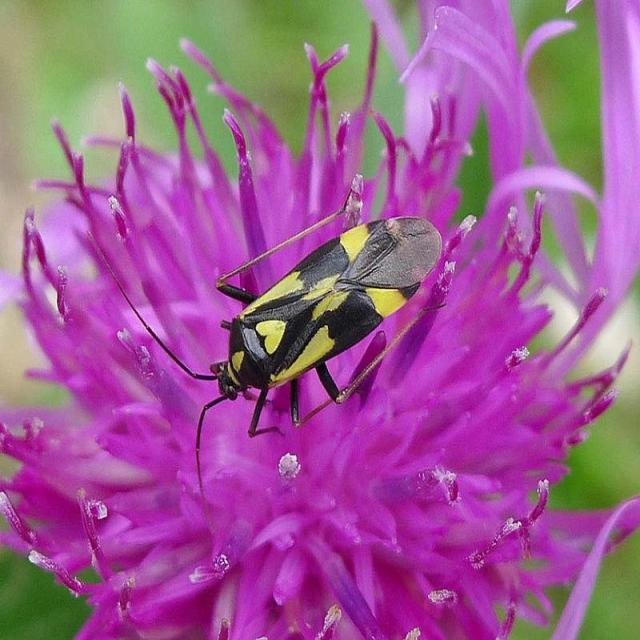Miridae-Adult-: (102, 190, 448, 459)
